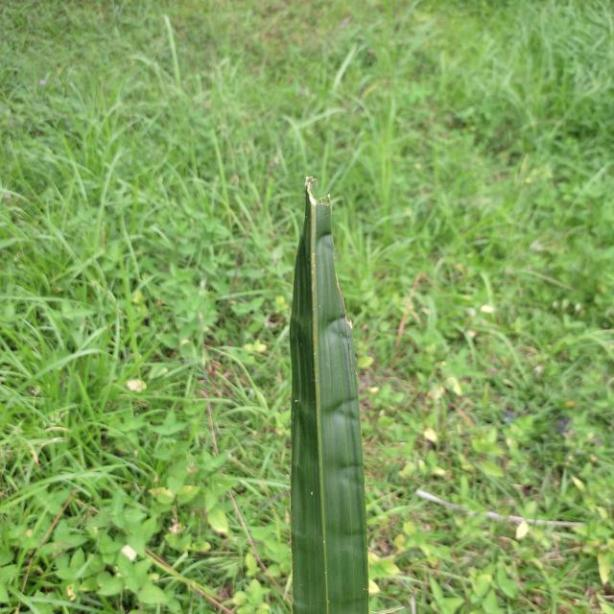Boron: (282, 171, 370, 614)
